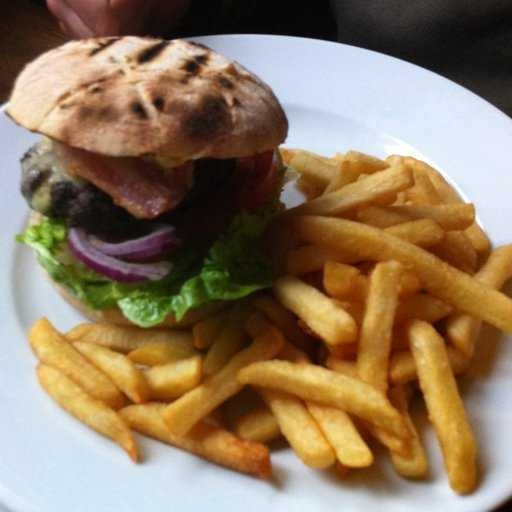hamburger: (25, 38, 286, 327)
